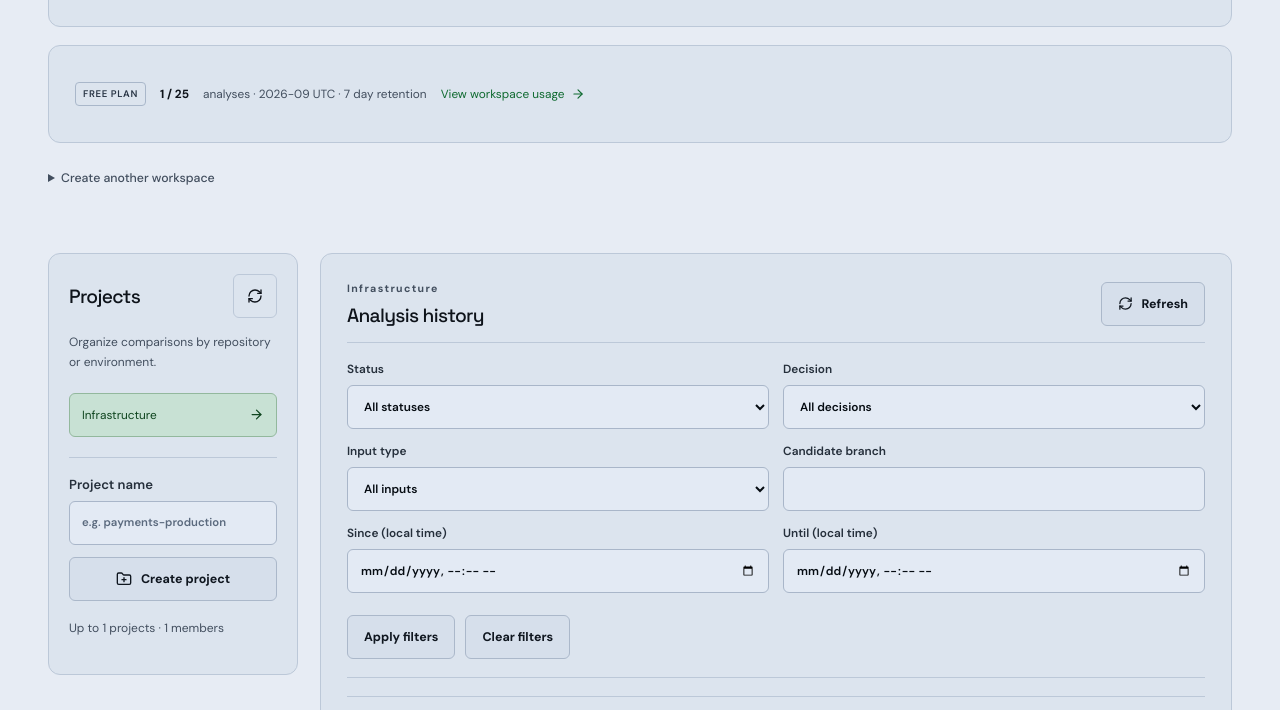
Test: history queries › sends supported filters and paginates using total even when a page is short
(page scrolled)
Select "succeeded" in the dropdown labelled "Status" at (558, 407), box 347,385 -> 769,429
Select "REVIEW REQUIRED" in the dropdown labelled "Decision" at (994, 407), box 783,385 -> 1205,429
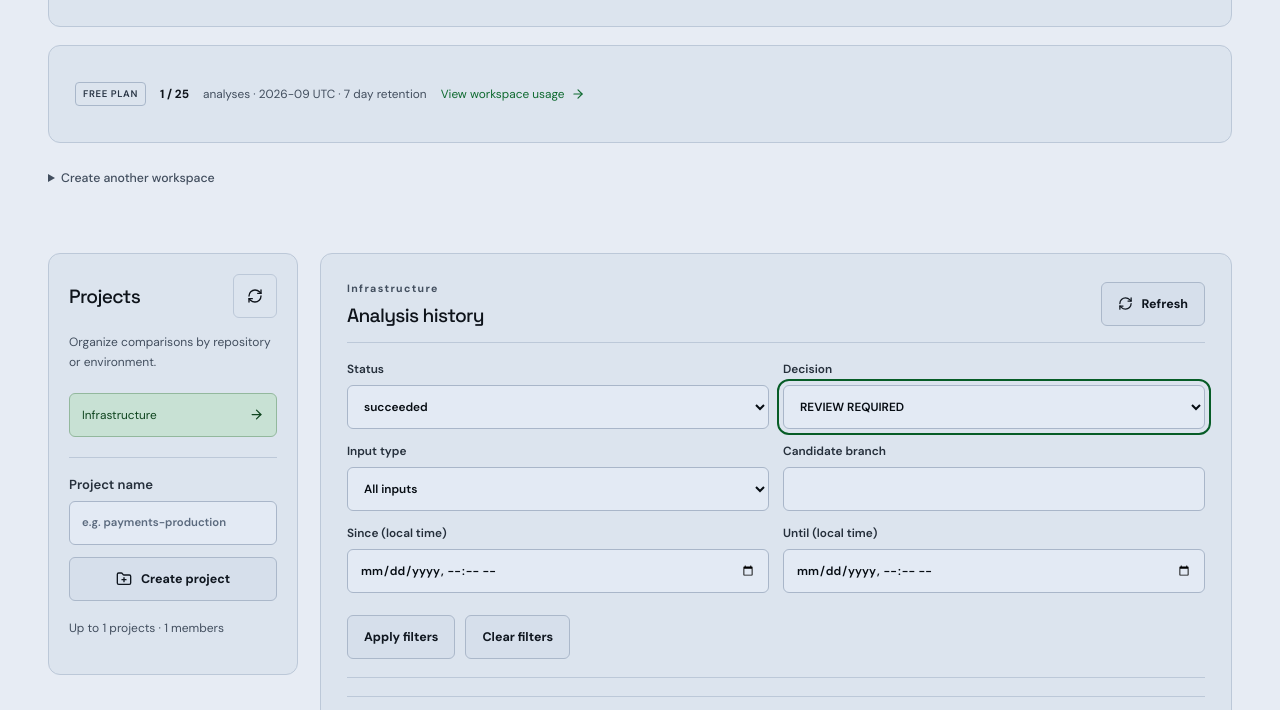
Select "Plan JSON" in the dropdown labelled "Input type" at (558, 489), box 347,467 -> 769,511
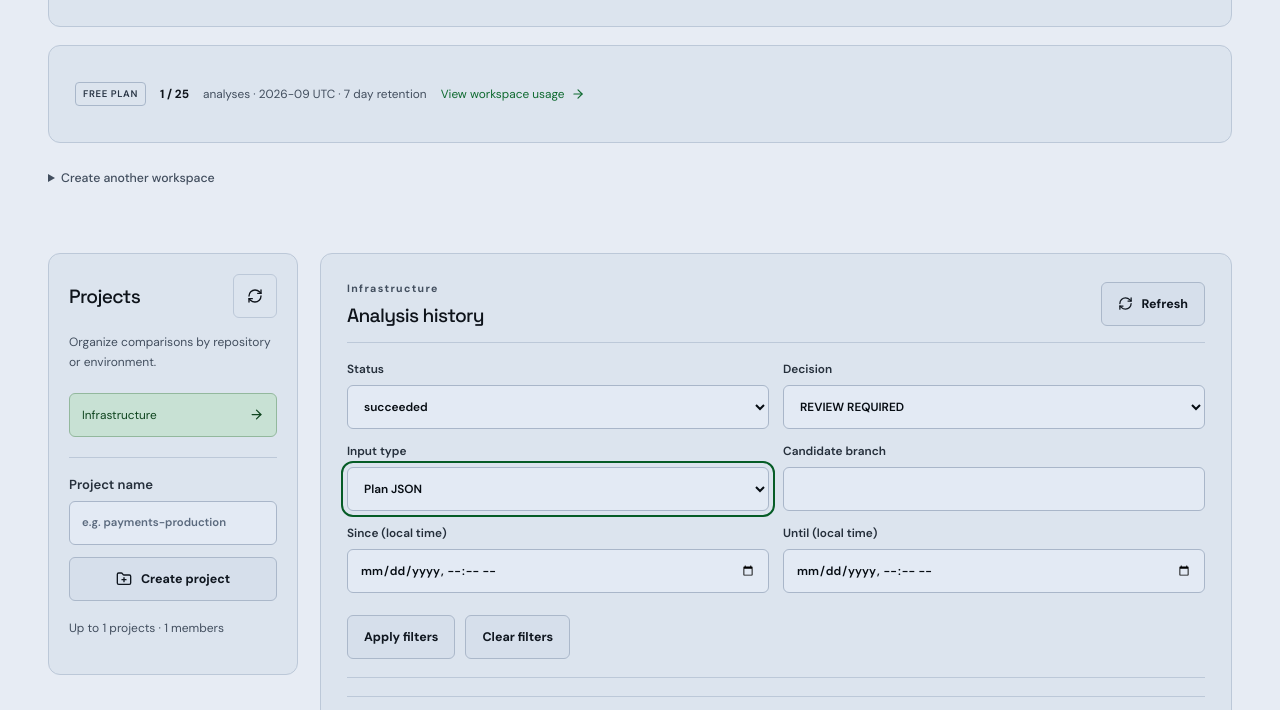
Type "feature/network" into the field labelled "Candidate branch" at (994, 489), box 783,467 -> 1205,511
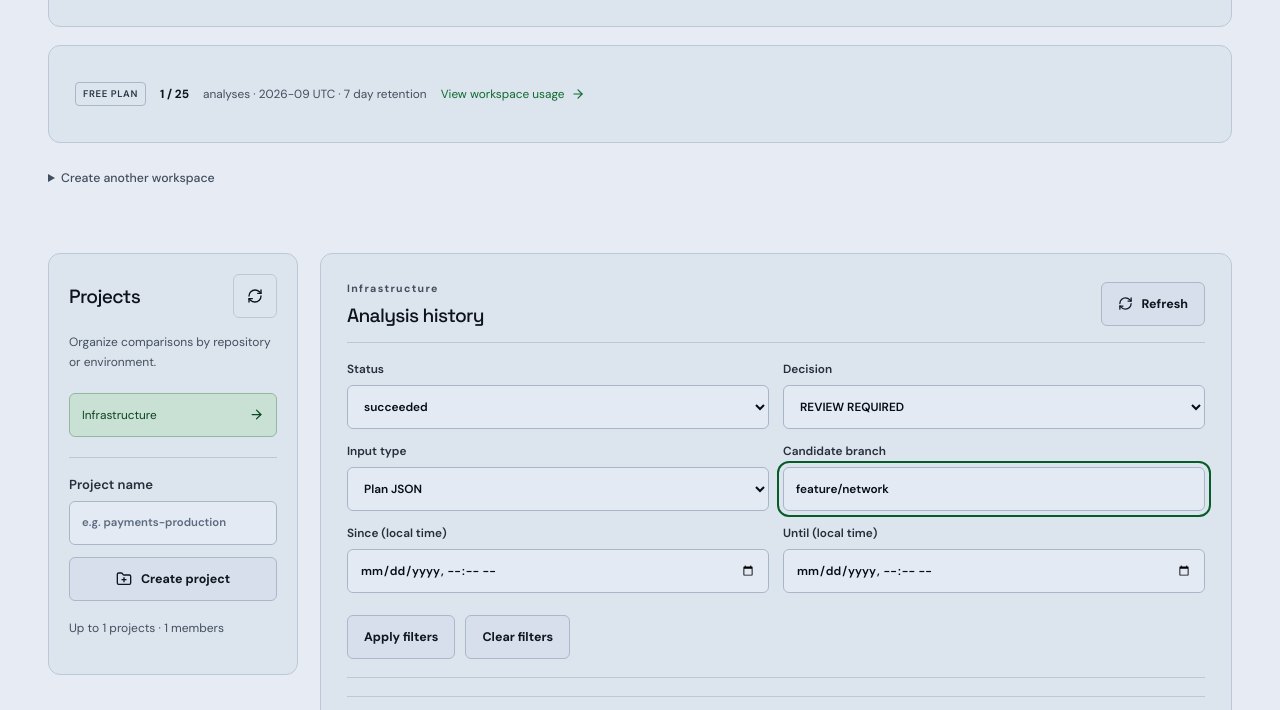
Type "2026-09-01T00:00" into the field labelled "Since (local time)" at (558, 571), box 347,549 -> 769,593
Click the button "Apply filters" at (401, 637), box 347,615 -> 455,659
(page scrolled)
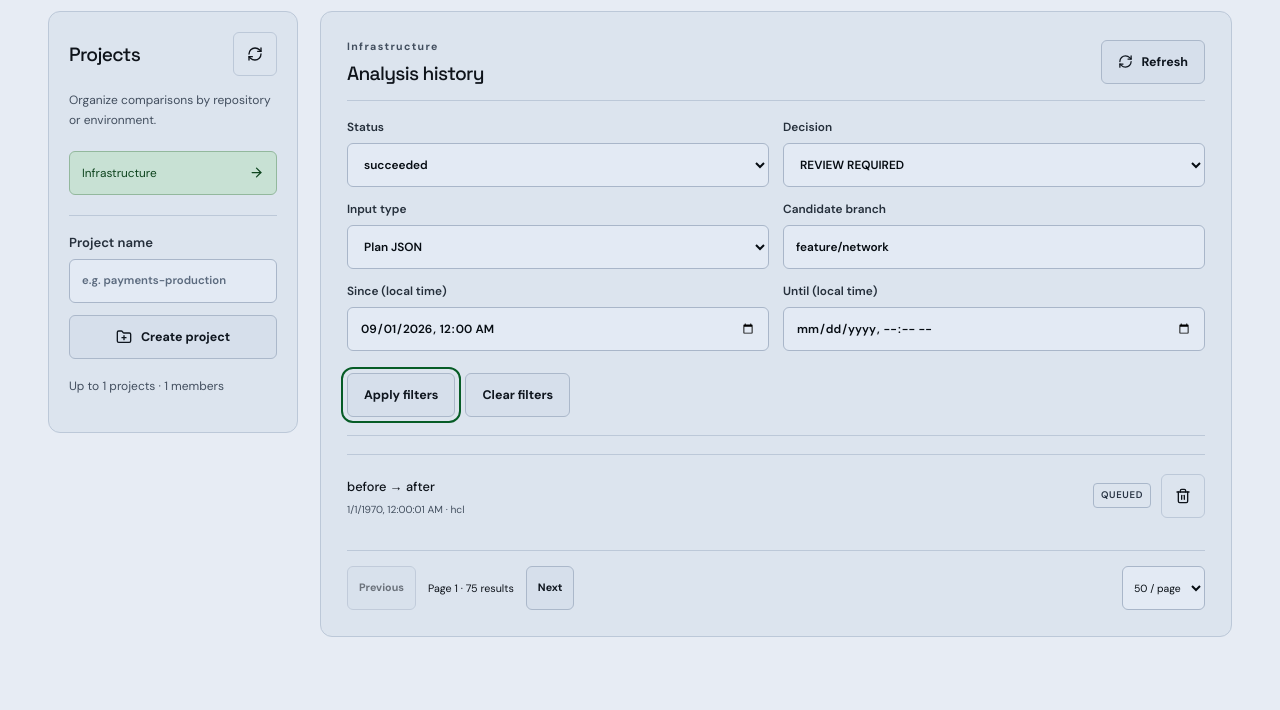
Click the button "Next" at (550, 588), box 526,566 -> 574,610
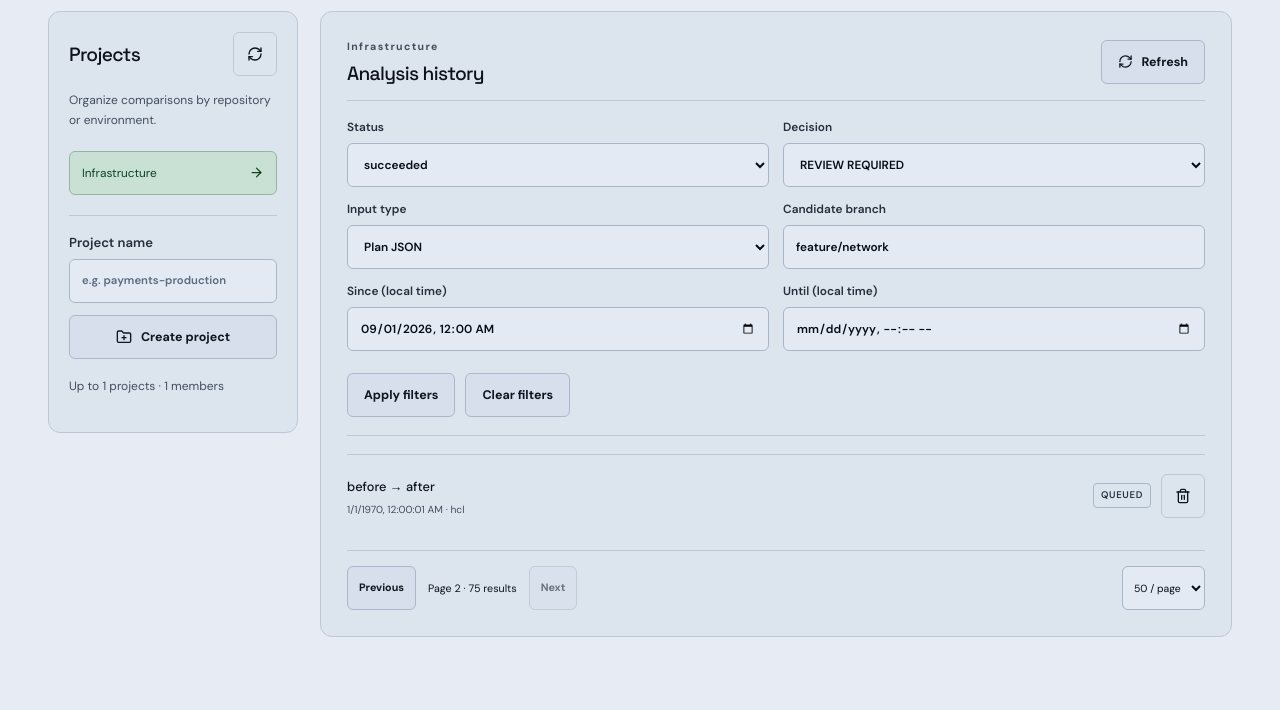
expect the text "Page 2 · 75 results" is shown: met, box 428,581 -> 517,595
expect the button "Next" is disabled: met, box 529,566 -> 577,610
Click the button "Clear filters" at (518, 395), box 465,373 -> 570,417
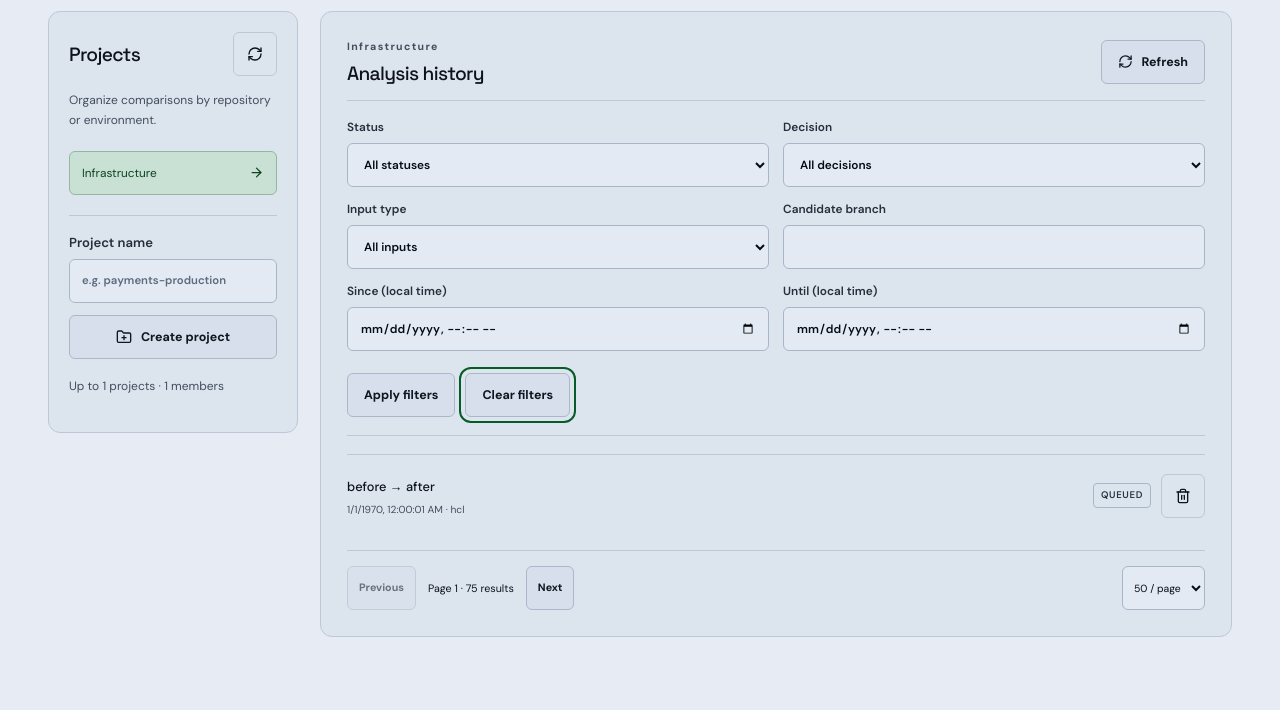
expect the text "Page 1 · 75 results" is shown: met, box 428,581 -> 514,595
